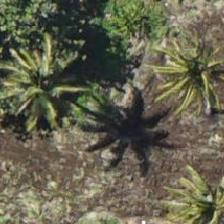coconut_tree: (0, 36, 85, 126), (158, 19, 223, 109), (155, 173, 223, 223)
